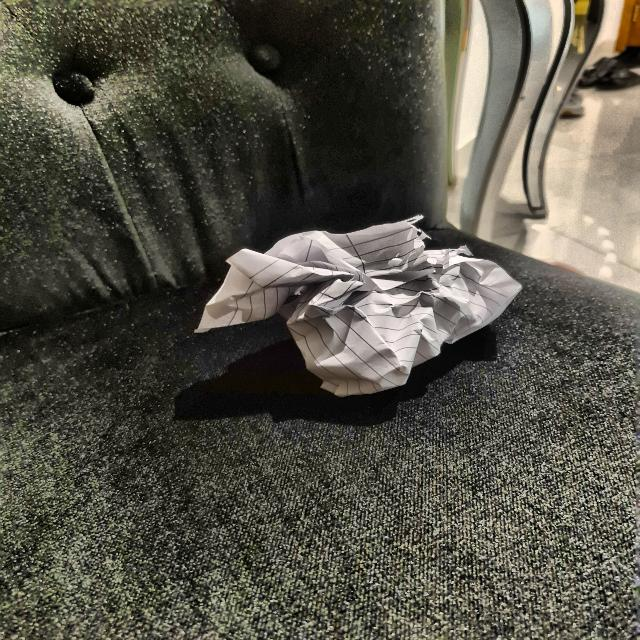Paper: (204, 221, 515, 400)
